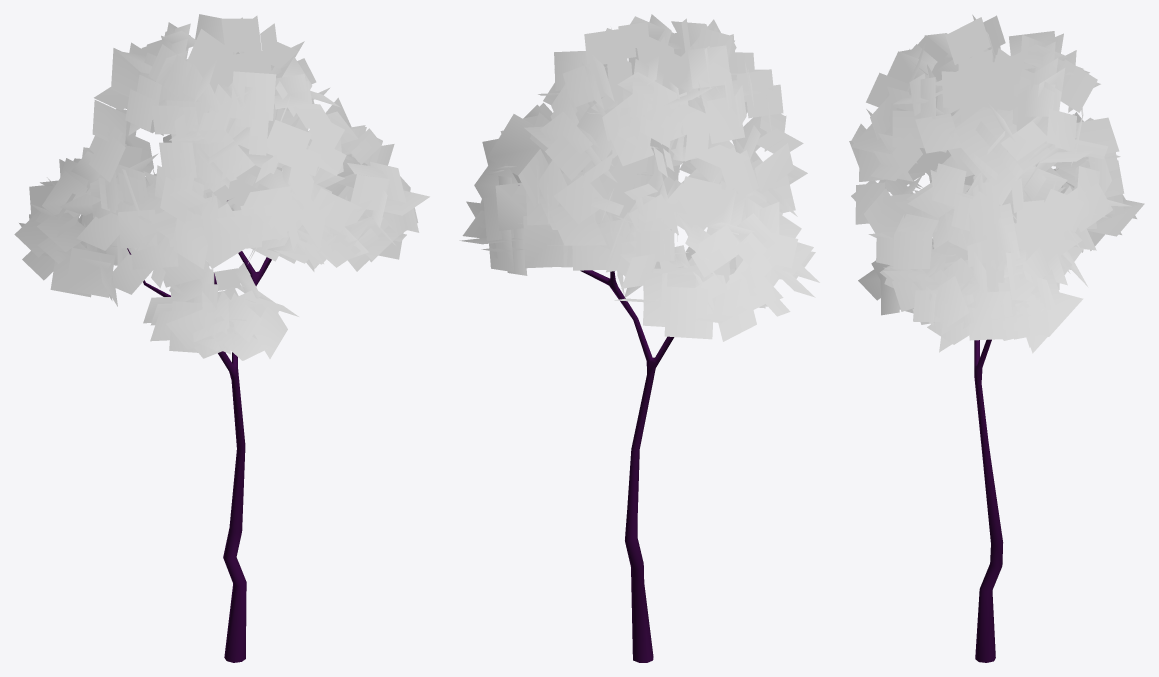
Rendered from m_TreeHigh1_LOD1.fbx.
3 views of the same model, side by side, from view 1: azimuth 30°, elevation 25°; view 2: azimuth 150°, elevation 25°; view 3: azimuth 270°, elevation 25° (orthographic). The views are drawn at different scales.
Parts seen in each view (by area): view 1: TreeHigh1_LOD1; view 2: TreeHigh1_LOD1; view 3: TreeHigh1_LOD1.
Part boxes in pixels (left/top/right/bottom): TreeHigh1_LOD1: left=14, top=14, right=429, bottom=662; TreeHigh1_LOD1: left=459, top=14, right=819, bottom=662; TreeHigh1_LOD1: left=849, top=14, right=1144, bottom=662.
Bounding box in the file's own units: 1883 × 3334 × 1431.
